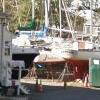Boat: (28, 44, 90, 82)
